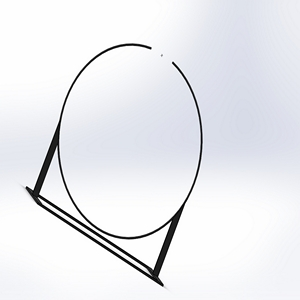circle: (25, 41, 204, 287)
